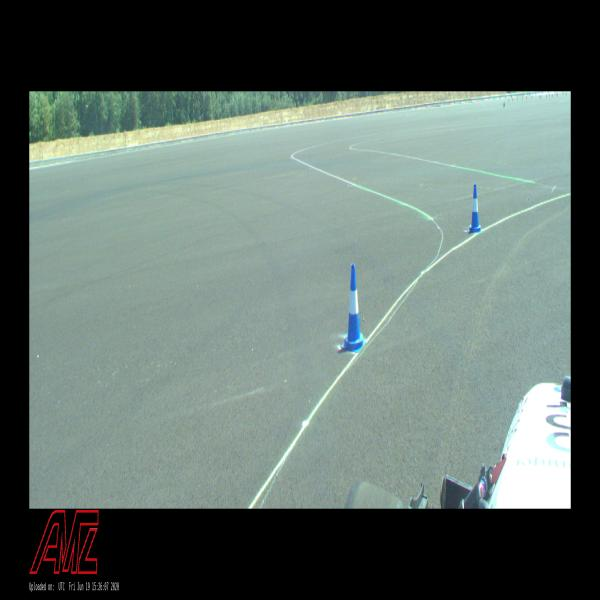blue_cone: (341, 264, 366, 353), (468, 184, 482, 234)
